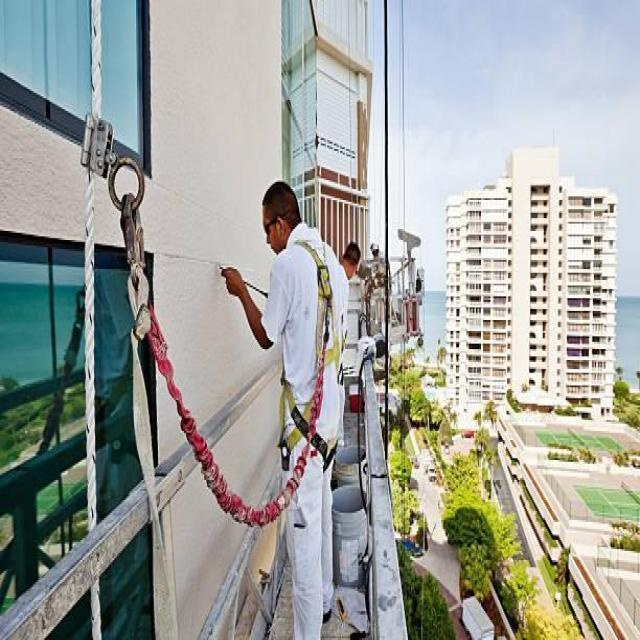Arnes_seguridad: (275, 241, 333, 477)
